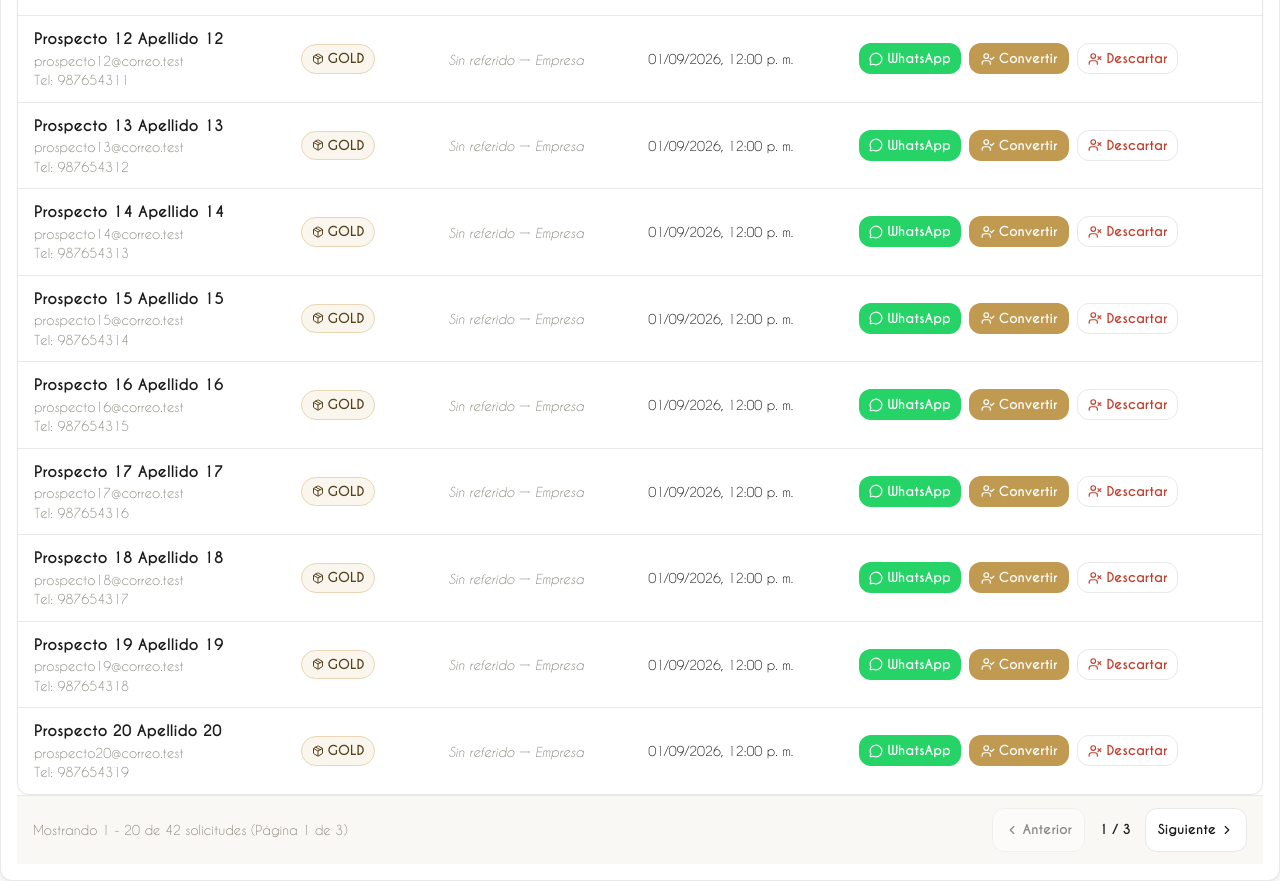
Test: TAREA-24 · Bloque 6: Pruebas de Consistencia de Interfaz › 7 · Con 42 filas, la lista muestra 20 y el paginador
(page scrolled)
Expected: the text "Mostrando 1 - 20 de 42 solicitudes (Página 1 de 3)" is shown, [33,820,348,839]
Expected: the text "1 / 3" is shown, [1099,821,1131,838]
What coordinates should you click on to do the following:
click the button "Siguiente"
I would click on:
 (1196, 830)
Its box is [1145,808,1247,852].
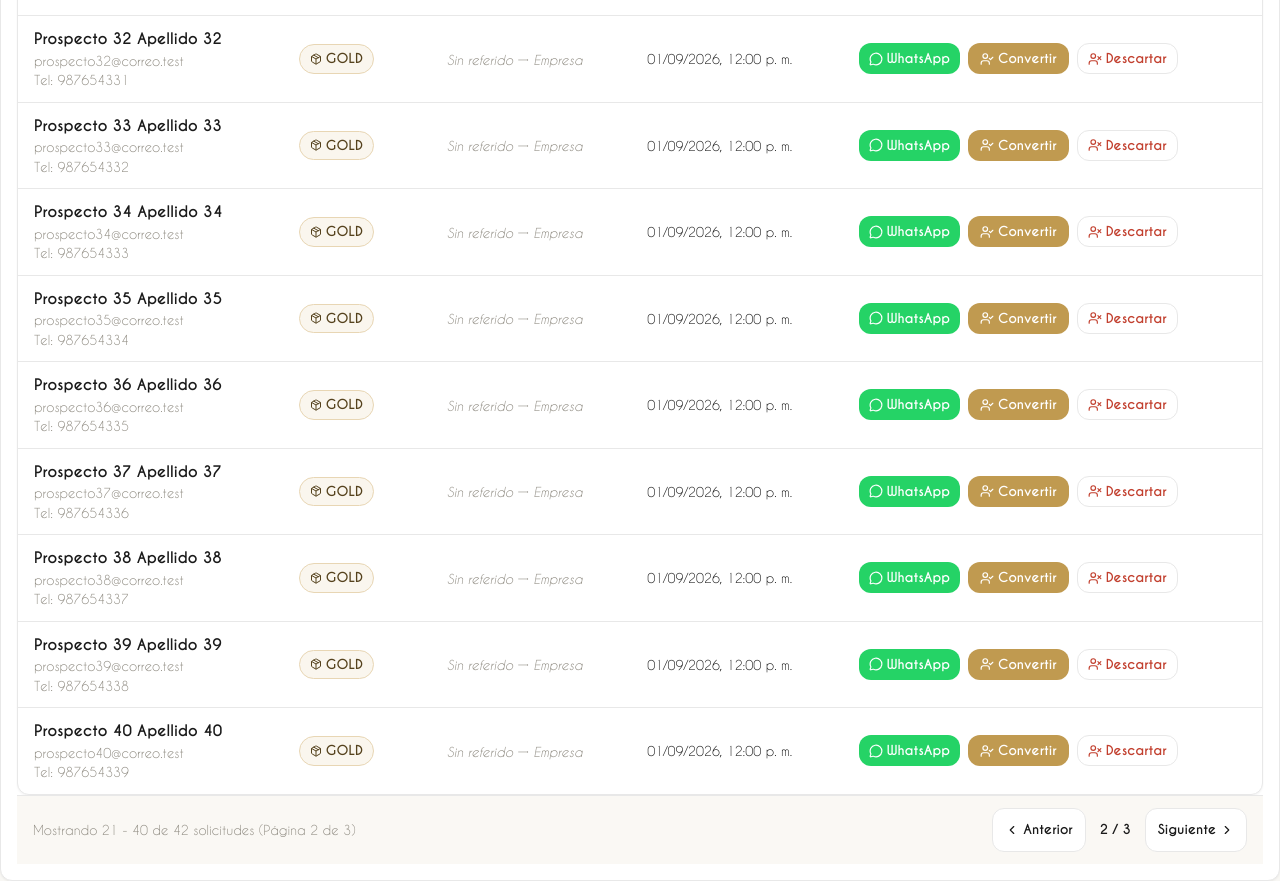
Expected: the text "Mostrando 21 - 40 de 42 solicitudes (Página 2 de 3)" is shown, [33,820,356,839]
Expected: the text "2 / 3" is shown, [1100,821,1131,838]
